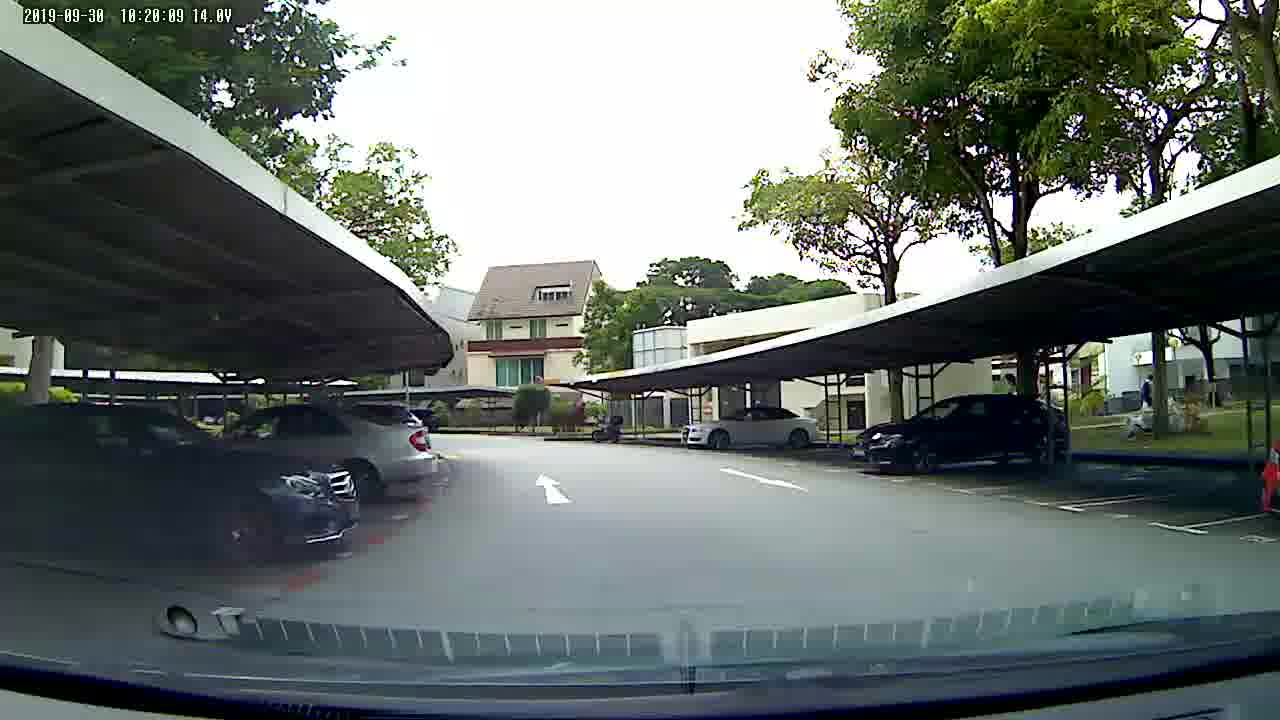car: (1, 389, 366, 579), (846, 388, 1079, 478), (673, 403, 834, 457)
